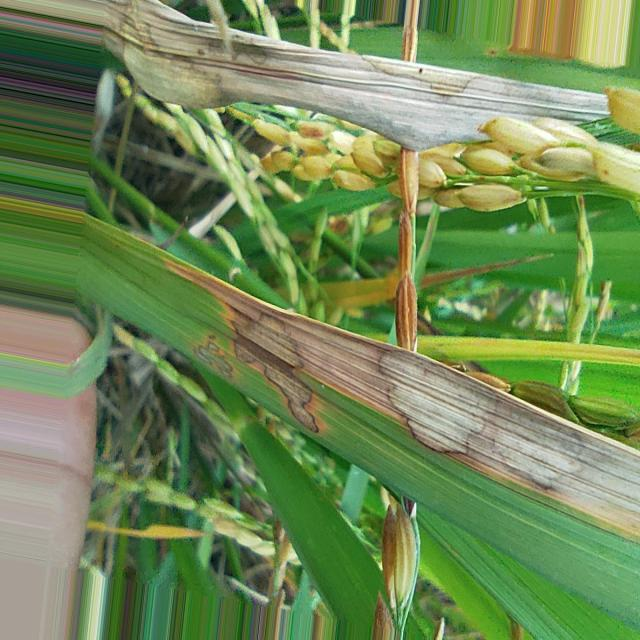Leaf_Blast: (418, 335, 640, 366), (420, 254, 551, 288), (321, 272, 399, 310), (88, 522, 205, 540)
Rice False Smut: (104, 0, 609, 149), (380, 347, 499, 455), (495, 397, 591, 492), (231, 310, 306, 388), (275, 368, 319, 433), (192, 340, 234, 382)
